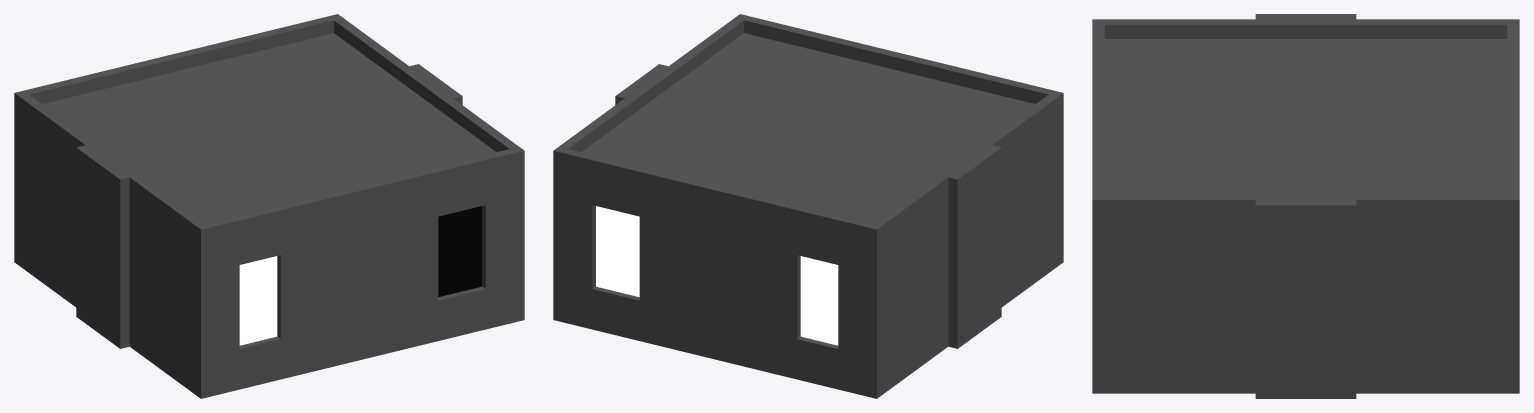
File: Immeuble1Haut.fbx
3 views of the same model, side by side, from view 1: azimuth 30°, elevation 25°; view 2: azimuth 150°, elevation 25°; view 3: azimuth 270°, elevation 25° (orthographic). The views are drawn at different scales.
Visible parts, largest first — view 1: Cube.000; view 2: Cube.000; view 3: Cube.000.
Part boxes in pixels (x1,y1,x2,y2): Cube.000: (14, 14, 524, 398); Cube.000: (553, 14, 1063, 398); Cube.000: (1092, 14, 1519, 398).
Size of the model in its own units: 2116 by 1000 by 2000.
